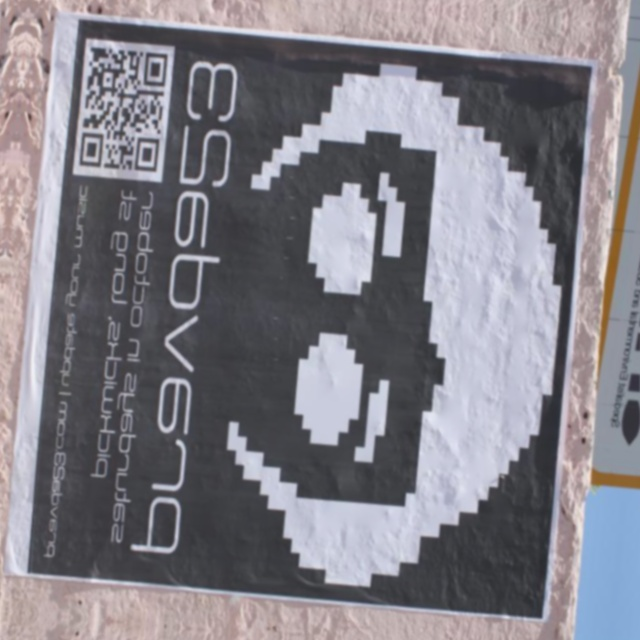qr-code: (79, 47, 168, 173)
